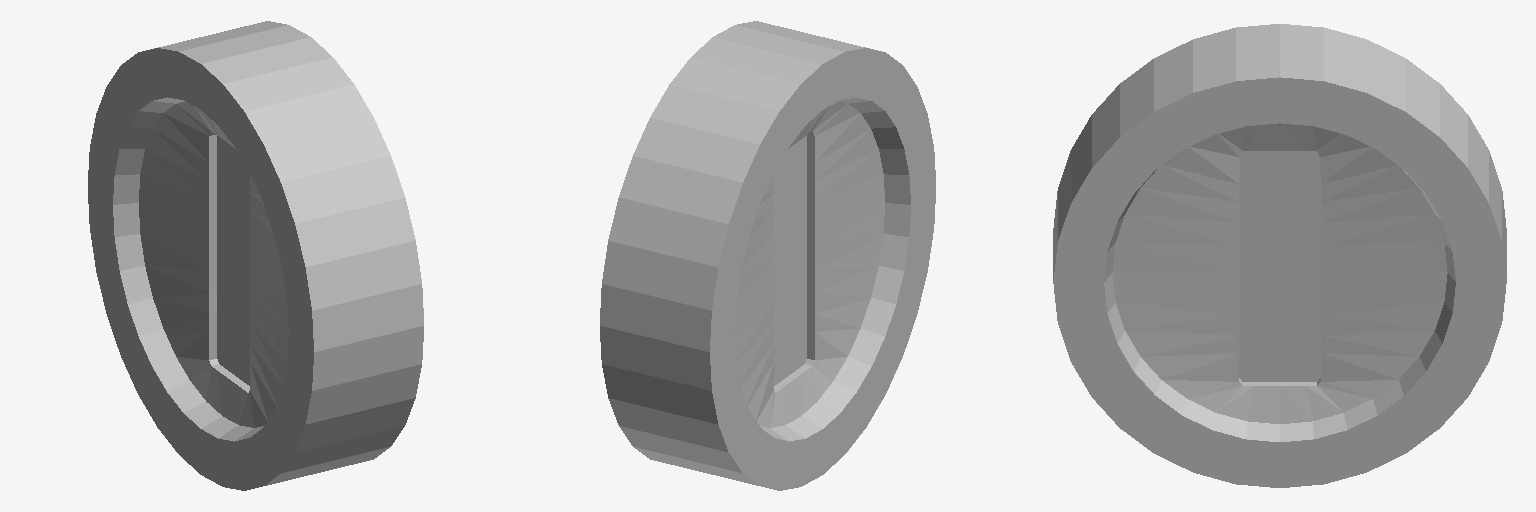
The model's file is coin.obj.
3 renders of one model, left to right at view 1: azimuth 30°, elevation 25°; view 2: azimuth 150°, elevation 25°; view 3: azimuth 270°, elevation 25°, orthographic.
Visible parts, largest first — view 1: Cylinder; view 2: Cylinder; view 3: Cylinder.
Part boxes in pixels (bbox=[...]): Cylinder: bbox=[88, 21, 423, 490]; Cylinder: bbox=[600, 21, 935, 490]; Cylinder: bbox=[1053, 24, 1506, 487].
Size of the model in its own units: 2.76 by 9.84 by 9.84.